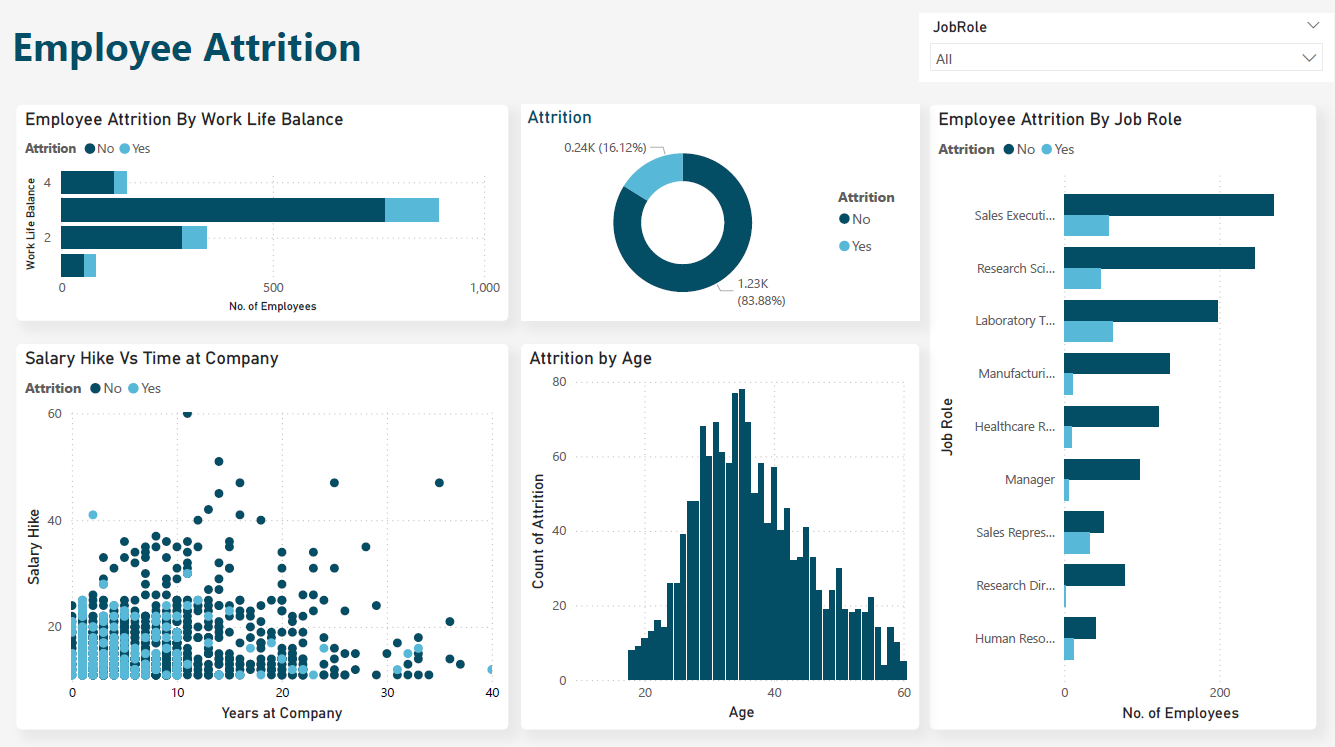

This screenshot's page, from the dashboard's own definition file:
{"tool":"powerbi","page":{"name":"Page 2","canvas":[1280,720],"ordinal":1},"visuals":[{"type":"shape","box":[0,0,1280.3,719.6],"z":0},{"type":"clusteredBarChart","title":"Employee Attrition By Job Role","fields":{"Series":["hr.Attrition"],"Y":["CountNonNull(hr.EmployeeNumber)"],"Category":["hr.JobRole"]},"box":[887.8,102.7,366.8,593.1],"z":1000},{"type":"barChart","title":"Employee Attrition By Work Life Balance","fields":{"Series":["hr.Attrition"],"Y":["CountNonNull(hr.EmployeeNumber)"],"Category":["hr.WorkLifeBalance"]},"box":[20.8,102.7,467.1,205.4],"z":2000},{"type":"scatterChart","title":"Salary Hike Vs Time at Company","fields":{"X":["Sum(hr.YearsAtCompany)"],"Y":["Sum(hr.PercentSalaryHike)"],"Category":["hr.MonthlyIncome"],"Series":["hr.Attrition"]},"box":[20.8,330.2,467.1,365.6],"z":3000},{"type":"slicer","fields":{"Values":["hr.JobRole"]},"box":[878,15.9,392.5,64.8],"z":4000},{"type":"clusteredColumnChart","title":"Attrition by Age","fields":{"Category":["hr.Age"],"Y":["CountNonNull(hr.Attrition)"]},"box":[500.1,330.2,377.9,365.6],"z":5000},{"type":"textbox","box":[12.2,15.9,479.4,78.3],"z":6000},{"type":"donutChart","title":"Attrition","fields":{"Category":["hr.Attrition"],"Y":["Count(hr.EmployeeNumber)"]},"box":[500.1,102.7,377.9,205.4],"z":7000}]}

Visuals, with their boxes in screenshot pixels (x1, y1, x2, y2), scaled from the page's 1280x720 canvas onto the 1335x747 screenshot:
shape: [left=0, top=0, right=1334, bottom=746]
"Employee Attrition By Job Role" clusteredBarChart: [left=926, top=107, right=1309, bottom=722]
"Employee Attrition By Work Life Balance" barChart: [left=22, top=107, right=509, bottom=320]
"Salary Hike Vs Time at Company" scatterChart: [left=22, top=343, right=509, bottom=722]
slicer - hr.JobRole: [left=916, top=16, right=1325, bottom=84]
"Attrition by Age" clusteredColumnChart: [left=522, top=343, right=916, bottom=722]
textbox: [left=13, top=16, right=513, bottom=98]
"Attrition" donutChart: [left=522, top=107, right=916, bottom=320]
